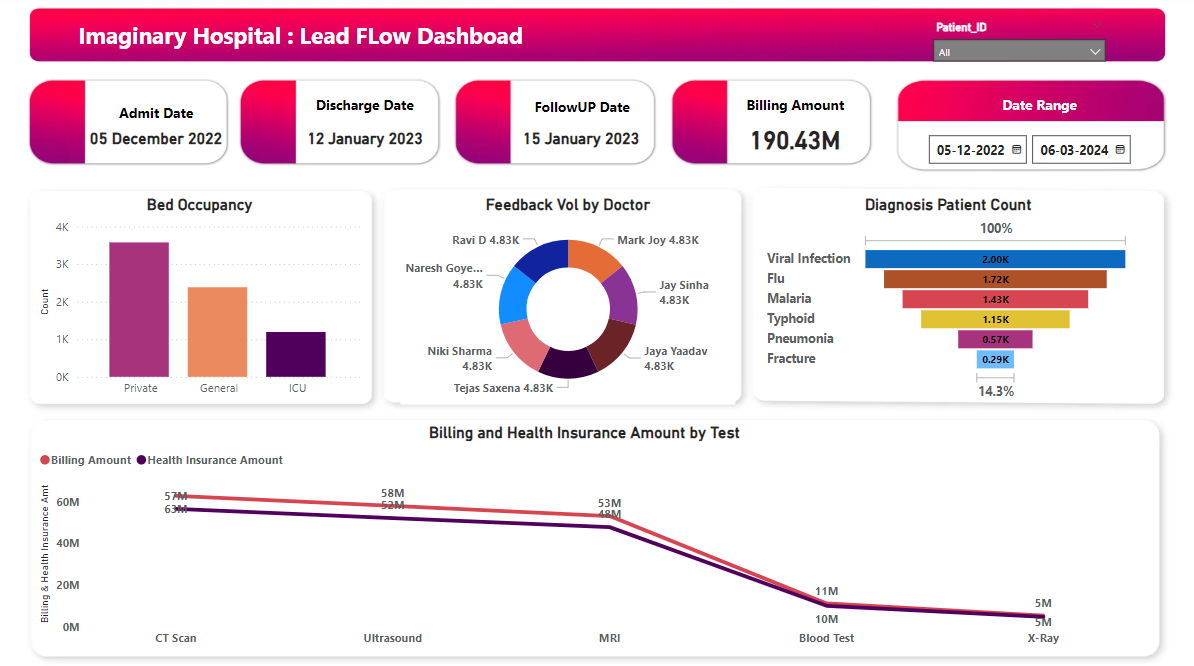

Layout of this report page (visuals, bound fields, positions):
{"tool":"powerbi","page":{"name":"Hospital Visualisation","canvas":[1280,720],"ordinal":0},"visuals":[{"type":"textbox","box":[81.7,21.7,526.7,65],"z":0},{"type":"slicer","fields":{"Values":["Sheet1.Patient_ID"]},"box":[986.7,21.7,203.3,65],"z":1000},{"type":"card","fields":{"Values":["Min(Sheet1.Admit_Date)"]},"box":[81.7,130,175,50],"z":2000},{"type":"card","fields":{"Values":["Min(Sheet1.Followup Date)"]},"box":[540,130,163.3,50],"z":3000},{"type":"card","fields":{"Values":["Min(Sheet1.Discharge_Date)"]},"box":[311.7,130,160,50],"z":4000},{"type":"card","fields":{"Values":["Sum(Sheet1.Billing Amount)"]},"box":[768.3,130,161.7,50],"z":5000},{"type":"textbox","box":[90,110,160,38.3],"z":6000},{"type":"textbox","box":[770,101.7,160,38.3],"z":7000},{"type":"textbox","box":[543.3,103.3,160,38.3],"z":8000},{"type":"textbox","box":[311.7,101.7,160,38.3],"z":9000},{"type":"textbox","box":[1030,101.7,160,38.3],"z":10000},{"type":"slicer","fields":{"Values":["Sheet1.Admit_Date"]},"box":[980,140,258.3,50],"z":11000},{"type":"columnChart","title":"Bed Occupancy","fields":{"Category":["Sheet1.Bed_Occupancy"],"Y":["CountNonNull(Sheet1.Patient_ID)"]},"box":[40,213.3,351.7,223.3],"z":12000},{"type":"donutChart","title":"Feedback Vol by Doctor","fields":{"Y":["Sum(Sheet1.Feedback)"],"Category":["Sheet1.Doctor"]},"box":[430,213.3,356.7,223.3],"z":13000},{"type":"funnel","title":"Diagnosis Patient Count","fields":{"Category":["Sheet1.Diagnosis"],"Y":["CountNonNull(Sheet1.Patient_ID)"]},"box":[815,213.3,396.7,223.3],"z":14000},{"type":"lineChart","title":"Billing and Health Insurance Amount by Test","fields":{"Y":["Sum(Sheet1.Billing Amount)","Sum(Sheet1.Health Insurance Amount)"],"Category":["Sheet1.Test"]},"box":[40,456.7,1171.7,246.7],"z":15000}]}

Visuals, with their boxes in screenshot pixels (x1, y1, x2, y2), scaled from the page's 1280x720 canvas onto the 1194x666 screenshot:
textbox: BBox(76, 20, 568, 80)
slicer - Sheet1.Patient_ID: BBox(920, 20, 1110, 80)
card - Min(Sheet1.Admit_Date): BBox(76, 120, 239, 166)
card - Min(Sheet1.Followup Date): BBox(504, 120, 656, 166)
card - Min(Sheet1.Discharge_Date): BBox(291, 120, 440, 166)
card - Sum(Sheet1.Billing Amount): BBox(717, 120, 868, 166)
textbox: BBox(84, 102, 233, 137)
textbox: BBox(718, 94, 868, 130)
textbox: BBox(507, 96, 656, 131)
textbox: BBox(291, 94, 440, 130)
textbox: BBox(961, 94, 1110, 130)
slicer - Sheet1.Admit_Date: BBox(914, 130, 1155, 176)
"Bed Occupancy" columnChart: BBox(37, 197, 365, 404)
"Feedback Vol by Doctor" donutChart: BBox(401, 197, 734, 404)
"Diagnosis Patient Count" funnel: BBox(760, 197, 1130, 404)
"Billing and Health Insurance Amount by Test" lineChart: BBox(37, 422, 1130, 651)
